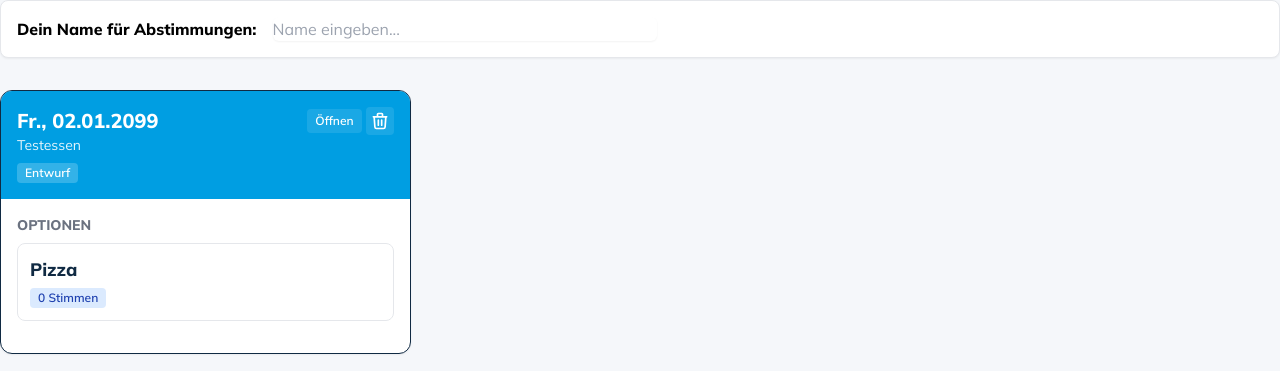
Test: LunchEventAdmin › offers a control that opens a draft event for voting
Expected: the text with test id "lunch-status" reads "Entwurf", [25,165,70,180]
Step 1. Click the button with test id "toggle-voting" → [334, 121], box [307,109,362,133]
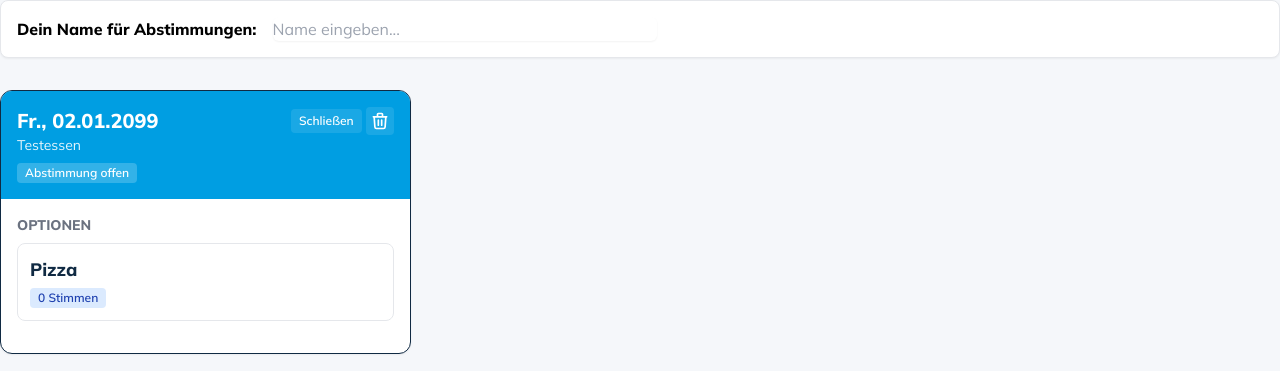
Result: the text with test id "lunch-status" reads "Abstimmung offen" at [25,165,129,180]
Result: the button with test id "toggle-voting" reads "Schließen" at [291,109,362,133]
